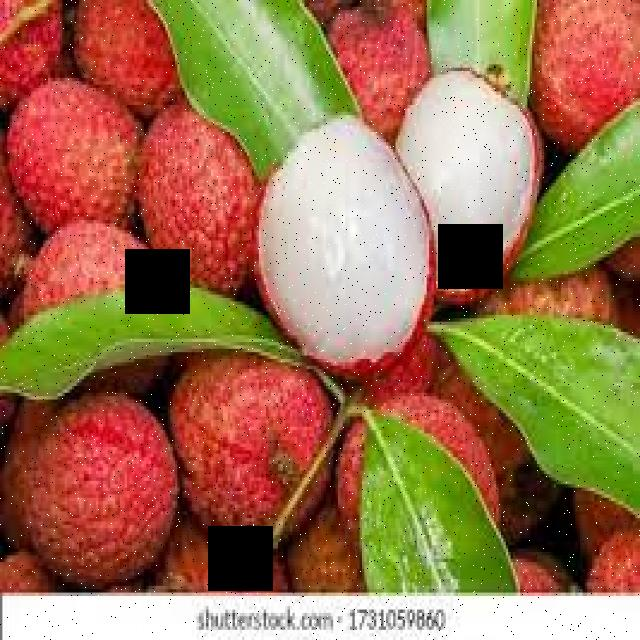lychee: (249, 73, 542, 359)
